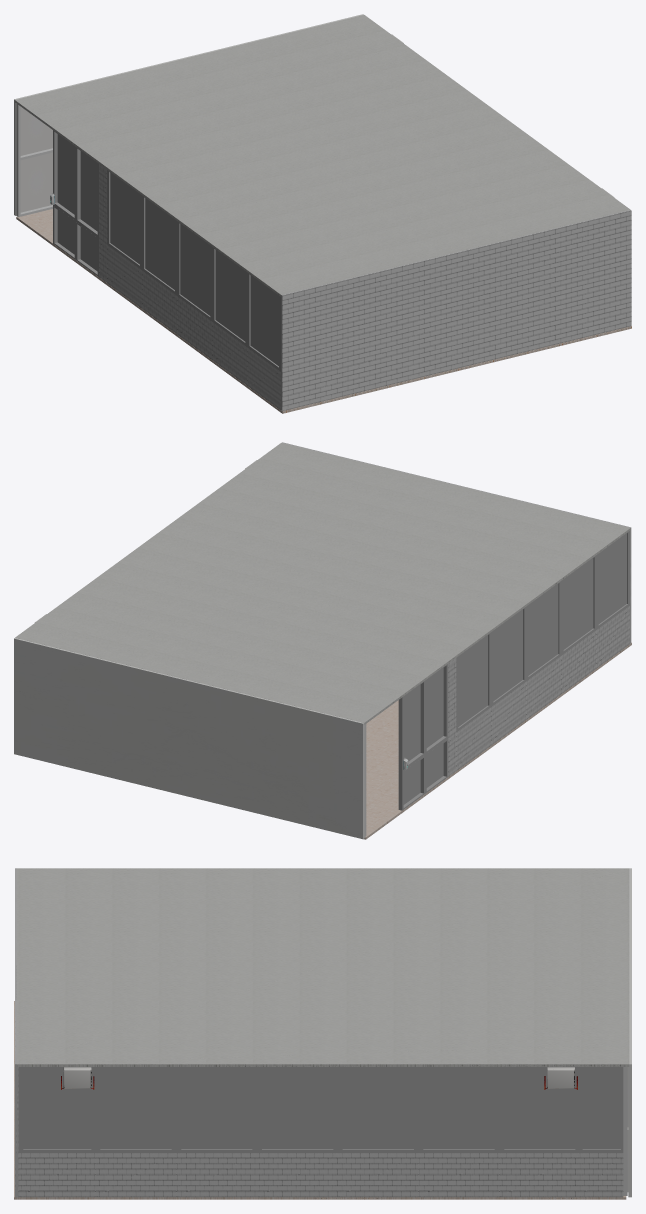
File: salonViejo.obj
The picture shows the model from 3 angles, top to bottom: view 1: azimuth 30°, elevation 25°; view 2: azimuth 150°, elevation 25°; view 3: azimuth 270°, elevation 25°; orthographic projection. The views are drawn at different scales.
Visible parts, largest first — view 1: Techo; view 2: Techo; view 3: Techo.
Part boxes in pixels (box(x1,y1,x2,y2)): Techo: box(14, 14, 631, 413); Techo: box(14, 442, 631, 839); Techo: box(14, 868, 631, 1199).
Bounding box in the file's own units: 107 × 33.45 × 138.
Materials: 18 (16 with a texture image).
